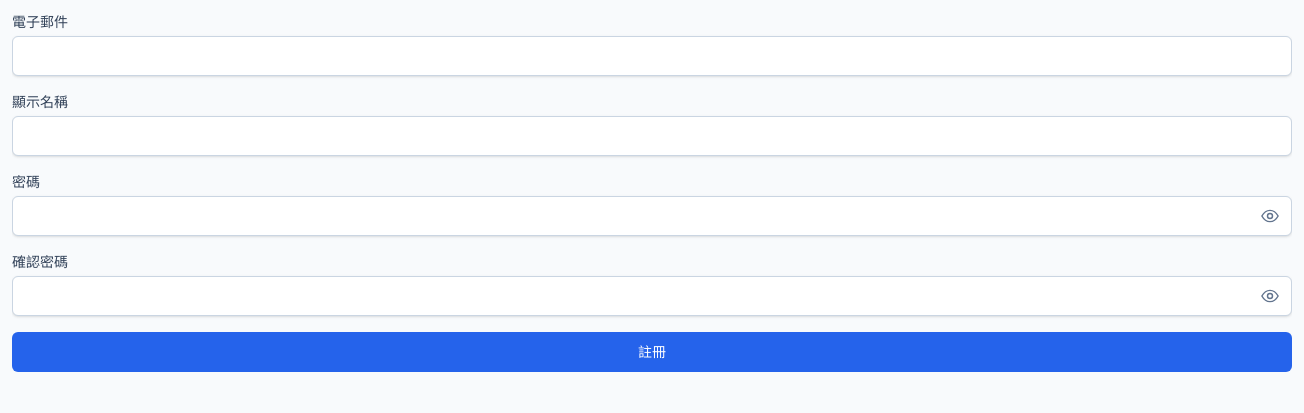
Test: RegisterForm password confirmation › errors when passwords do not match
Type "new@example.com" into the field labelled "電子郵件" at (652, 56), box [12,36,1292,76]
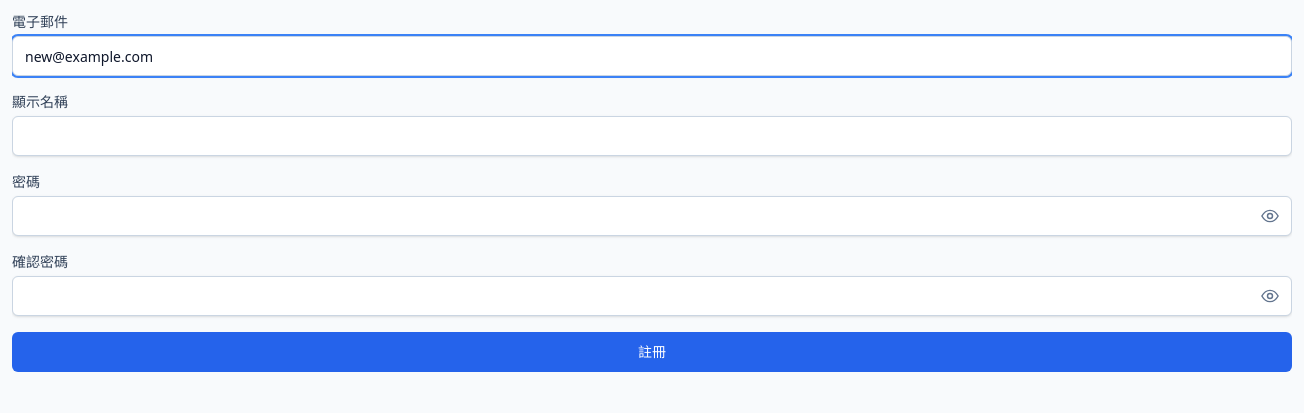
Type "New User" into the field labelled "顯示名稱" at (652, 136), box [12,116,1292,156]
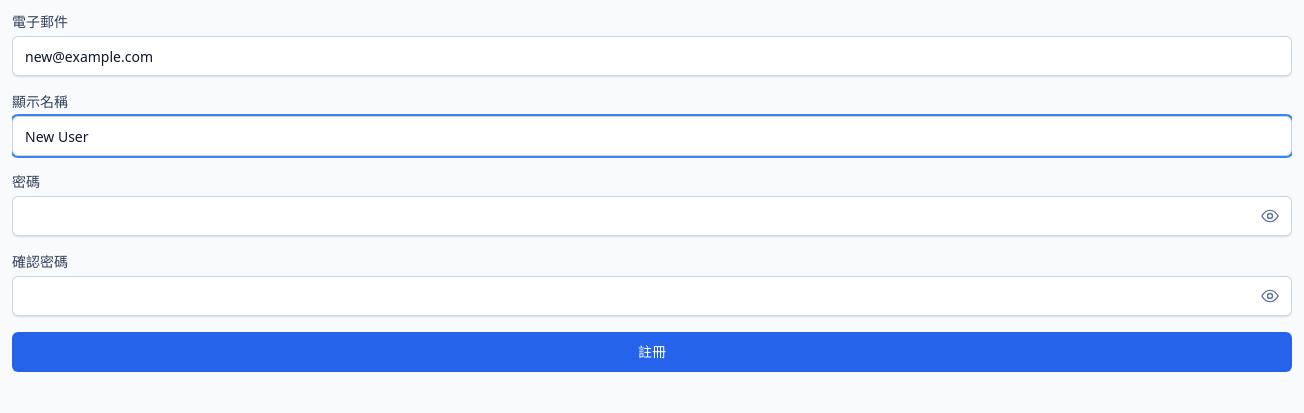
Type "password1" into the password field labelled "密碼" at (652, 216), box [12,196,1292,236]
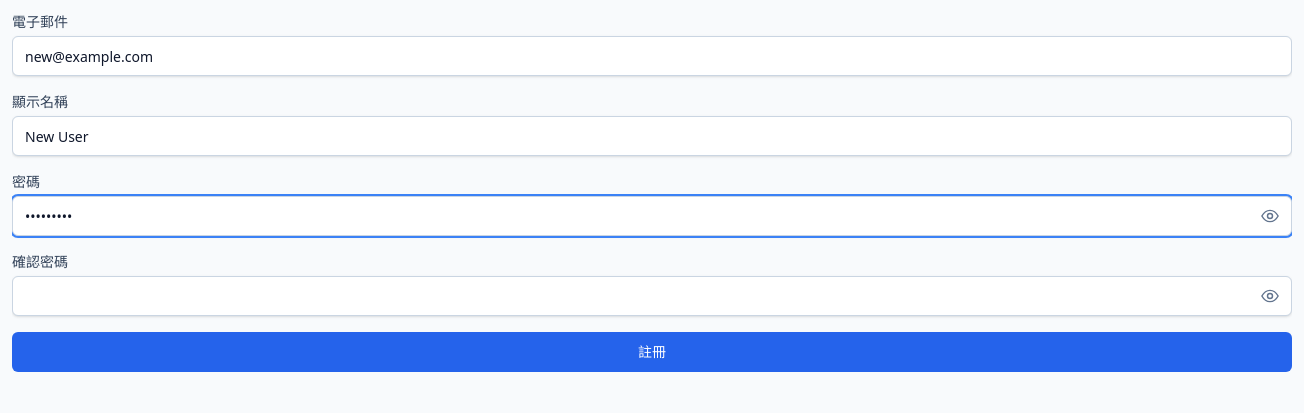
Type "password2" into the password field labelled "確認密碼" at (652, 296), box [12,276,1292,316]
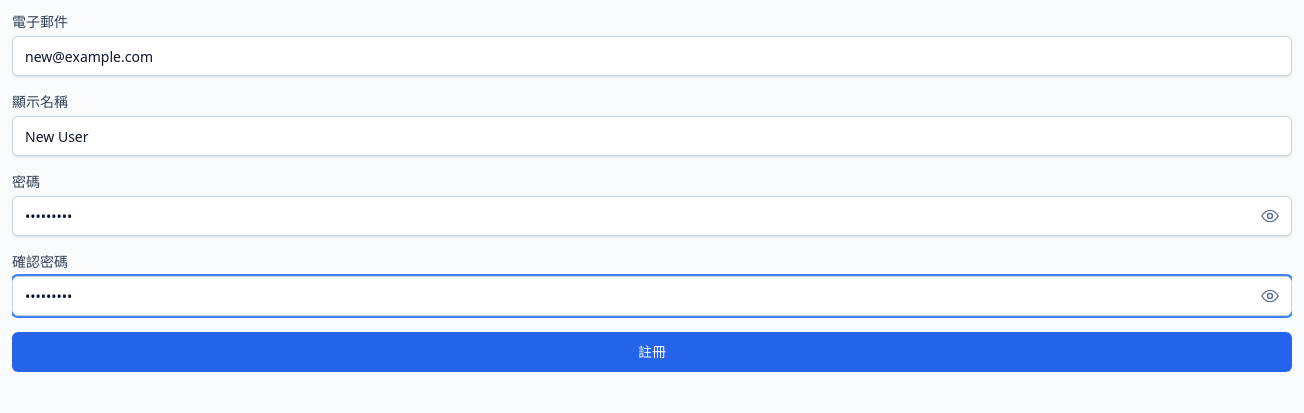
Click the button "註冊" at (652, 352), box [12,332,1292,372]
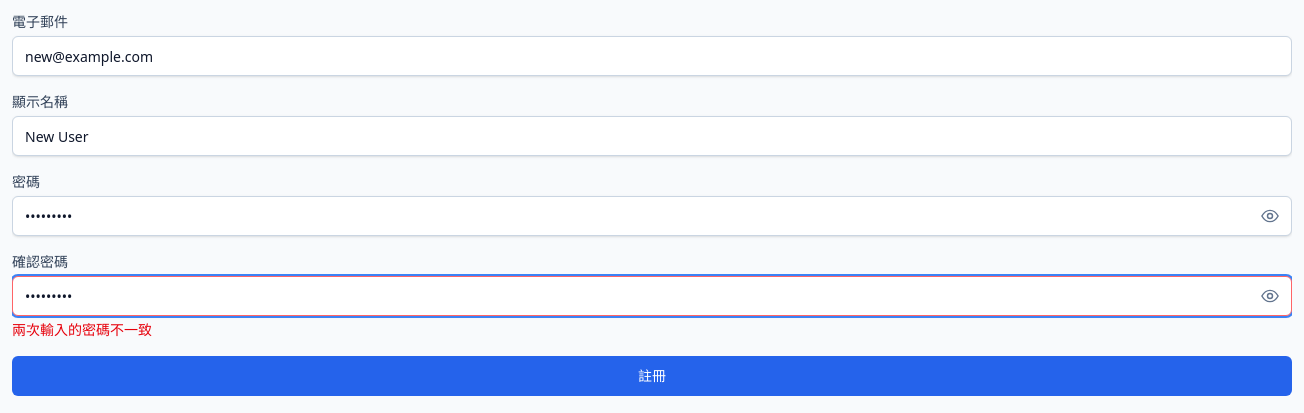
Result: the text "兩次輸入的密碼不一致" is shown at [12,320,152,339]
